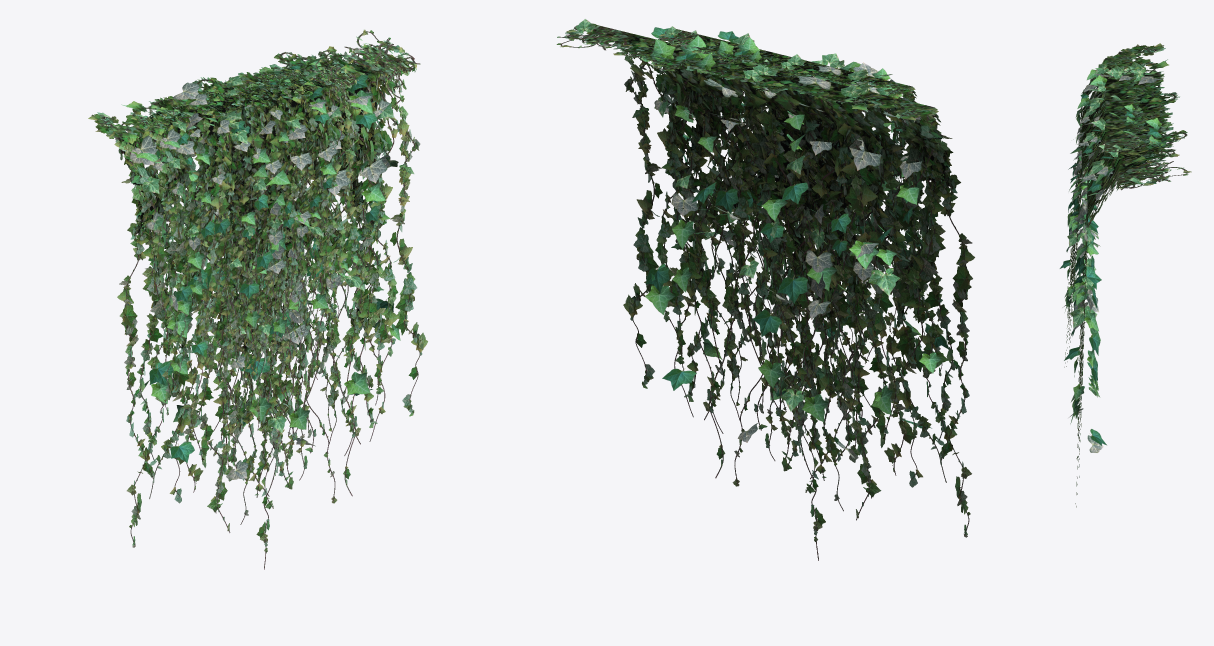
File: ivy_hanging.glb
The picture shows the model from 3 angles, left to right: view 1: azimuth 30°, elevation 25°; view 2: azimuth 150°, elevation 25°; view 3: azimuth 270°, elevation 25°; orthographic projection. The views are drawn at different scales.
Parts seen in each view (by area): view 1: Plane.004_Material.007_0, Plane.004_Material.001_0; view 2: Plane.004_Material.007_0, Plane.004_Material.001_0; view 3: Plane.004_Material.007_0, Plane.004_Material.001_0.
Part boxes in pixels (x1=…): Plane.004_Material.007_0: x1=88, y1=29, x2=427, y2=569; Plane.004_Material.001_0: x1=130, y1=52, x2=409, y2=479; Plane.004_Material.007_0: x1=556, y1=25, x2=974, y2=560; Plane.004_Material.001_0: x1=575, y1=18, x2=948, y2=458; Plane.004_Material.007_0: x1=1064, y1=43, x2=1191, y2=507; Plane.004_Material.001_0: x1=1059, y1=60, x2=1163, y2=452.
Bounding box in the file's own units: 200 × 235 × 67.87.
2 materials, 2 textured.
